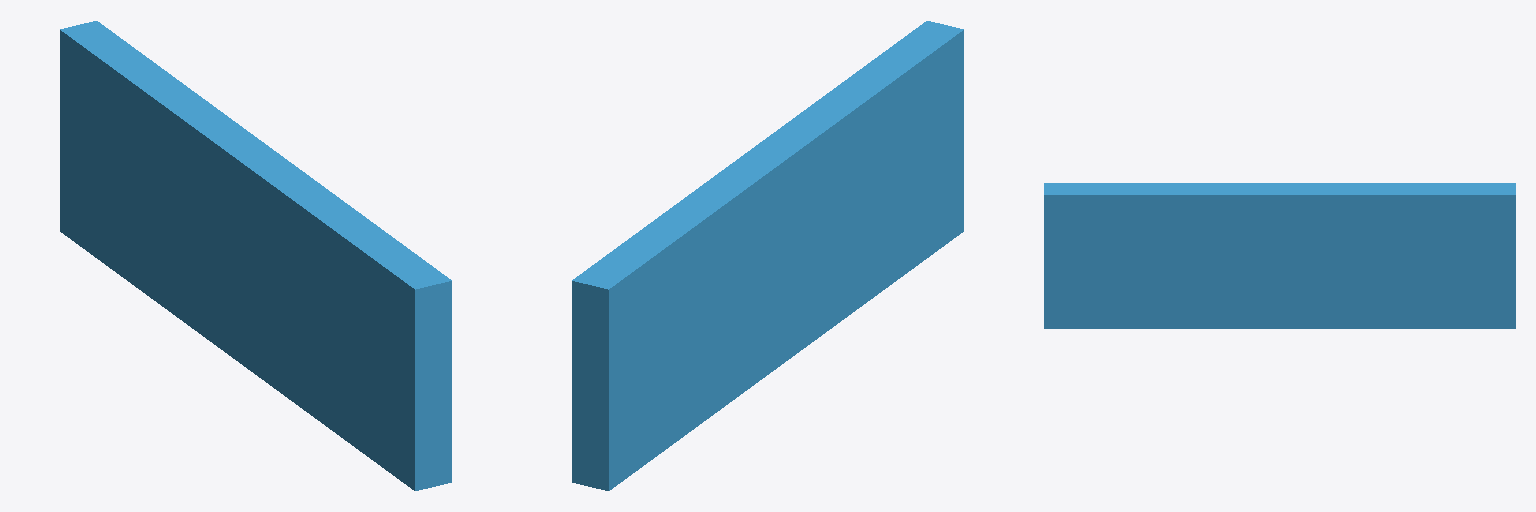
The robot description file, URDF, robot "box_43":
<?xml version="1.0" encoding="utf-8"?>    
    
    <robot name="box_43">
        <link name="box_43">    
            <fem>
                <origin rpy="0.0 0.0 0.0" xyz="0 0 0" />
                <density value="100" />
                <youngs value="1220"/>
                <poissons value="0.3"/>
                <damping value="0.0" /> 
                <attachDistance value="0.01"/>
                <tetmesh filename="../../../../Custom_mesh/physical_dvrk/multi_box_1kPa/box_43.tet"/>
                <scale value="1.0"/>
            </fem>
        </link>
        
        <link name="fix_frame">
            <visual>
                <origin xyz="-10.071 0.0 0.0"/>              
                <geometry>
                    <box size="0.005 0.083 0.026"/>
                </geometry>
            </visual>
            <collision>
                <origin xyz="-0.071 0.0 0.0"/>              
                <geometry>
                    <box size="0.005 0.083 0.026"/>
                </geometry>
            </collision>
            <inertial>
                <mass value="500000"/>
                <inertia ixx="0.05" ixy="0.0" ixz="0.0" iyy="0.05" iyz="0.0" izz="0.05"/>
            </inertial>
        </link>
        
        <joint name = "attach" type = "fixed">
            <origin xyz = "0.0 0.0 0.0" rpy = "0 0 0"/>
            <parent link = "box_43"/>
            <child link = "fix_frame"/>
        </joint>  
        
    </robot>
    

--- What the picture shows (computed from the rendered views, not written in the file) ---
3 views of the same robot in one strip: view 1: azimuth 30°, elevation 25°; view 2: azimuth 150°, elevation 25°; view 3: azimuth 270°, elevation 25° (orthographic).
Robot: box_43 — 2 links, 1 joints (1 fixed); root link box_43; default pose: every joint at zero.
Links seen in each view (by area): view 1: fix_frame; view 2: fix_frame; view 3: fix_frame.
Boxes of the visible links, x1,y1,x2,y2 form: fix_frame: (60,21,451,490); fix_frame: (572,21,963,490); fix_frame: (1044,183,1515,328).
Bounding box of the posed robot: 0.005 × 0.083 × 0.026 m (x, y, z).
Geometry: primitives only (box / cylinder / sphere), no mesh files.